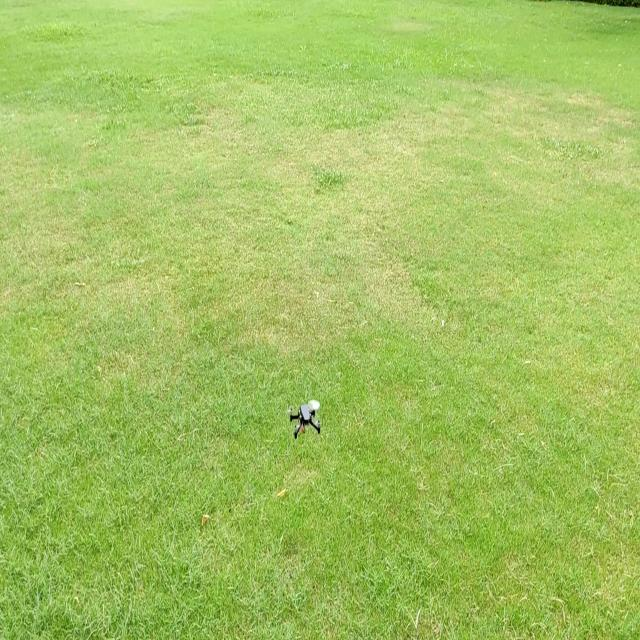drone: (284, 396, 335, 443)
